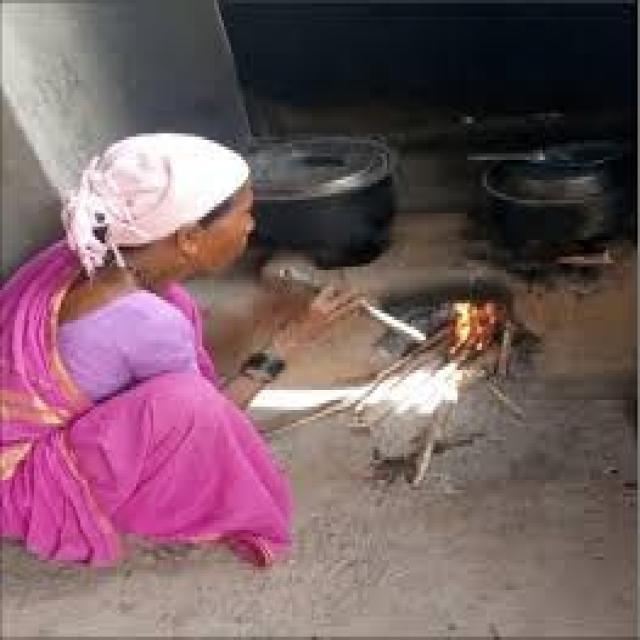fire: (449, 300, 507, 354)
